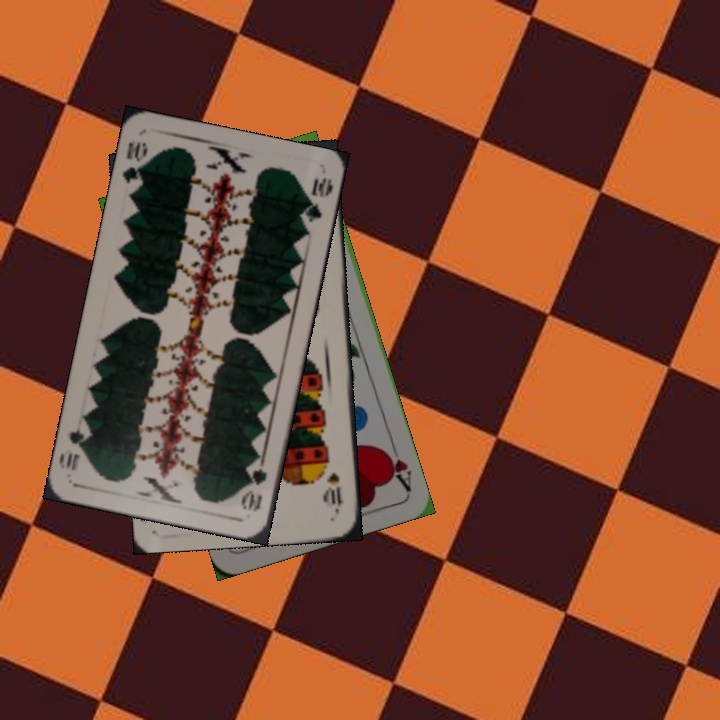G10: (238, 456, 270, 515), (118, 137, 151, 194)
HA: (378, 436, 415, 494)
S10: (323, 469, 345, 515)
